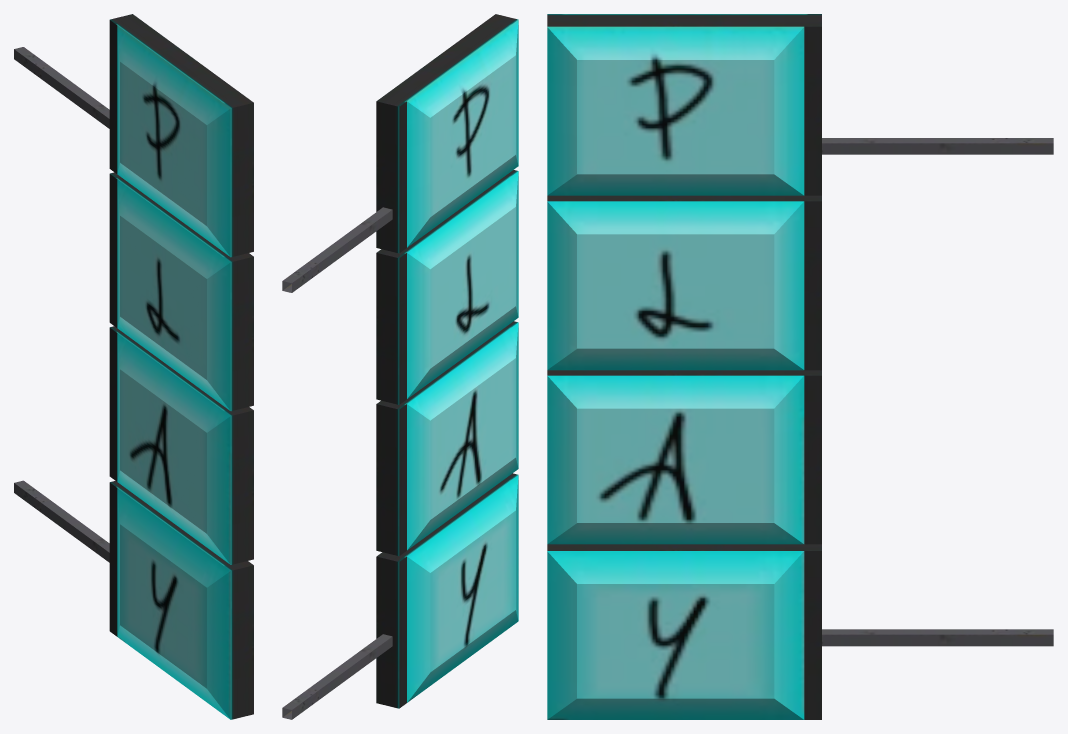
The model's file is ad04-art.glb.
3 views of the same model, side by side, from view 1: azimuth 30°, elevation 25°; view 2: azimuth 150°, elevation 25°; view 3: azimuth 270°, elevation 25° (orthographic). The views are drawn at different scales.
Visible parts, largest first — view 1: Ad04_Art; view 2: Ad04_Art; view 3: Ad04_Art.
Part boxes in pixels (x1=…): Ad04_Art: x1=14, y1=14, x2=253, y2=719; Ad04_Art: x1=282, y1=14, x2=518, y2=719; Ad04_Art: x1=547, y1=14, x2=1053, y2=719.
Bounding box in the file's own units: 0.5933 × 7.83 × 5.18.
1 material, 1 textured.
